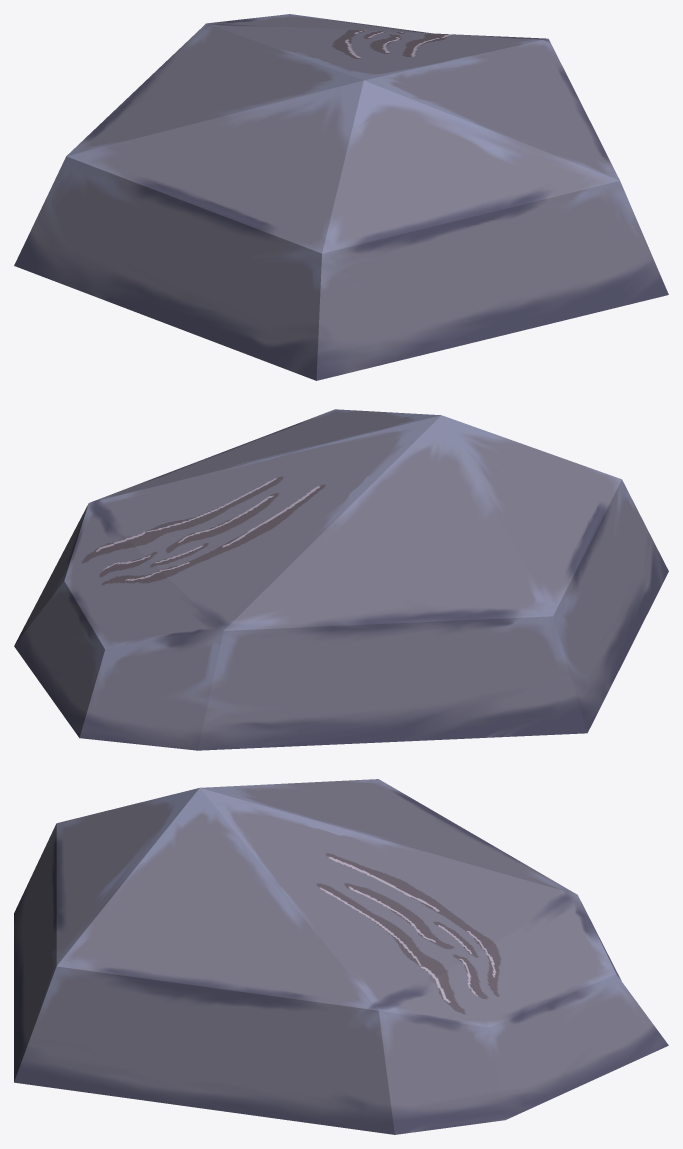
File: Rock.fbx
The picture shows the model from 3 angles, top to bottom: view 1: azimuth 30°, elevation 25°; view 2: azimuth 150°, elevation 25°; view 3: azimuth 270°, elevation 25°; orthographic projection. The views are drawn at different scales.
Parts seen in each view (by area): view 1: Circle; view 2: Circle; view 3: Circle.
Boxes of the visible parts, bbox=[...] form: Circle: bbox=[14, 14, 668, 380]; Circle: bbox=[14, 409, 668, 750]; Circle: bbox=[14, 779, 668, 1134].
Bounding box in the file's own units: 190 × 62.72 × 192.
